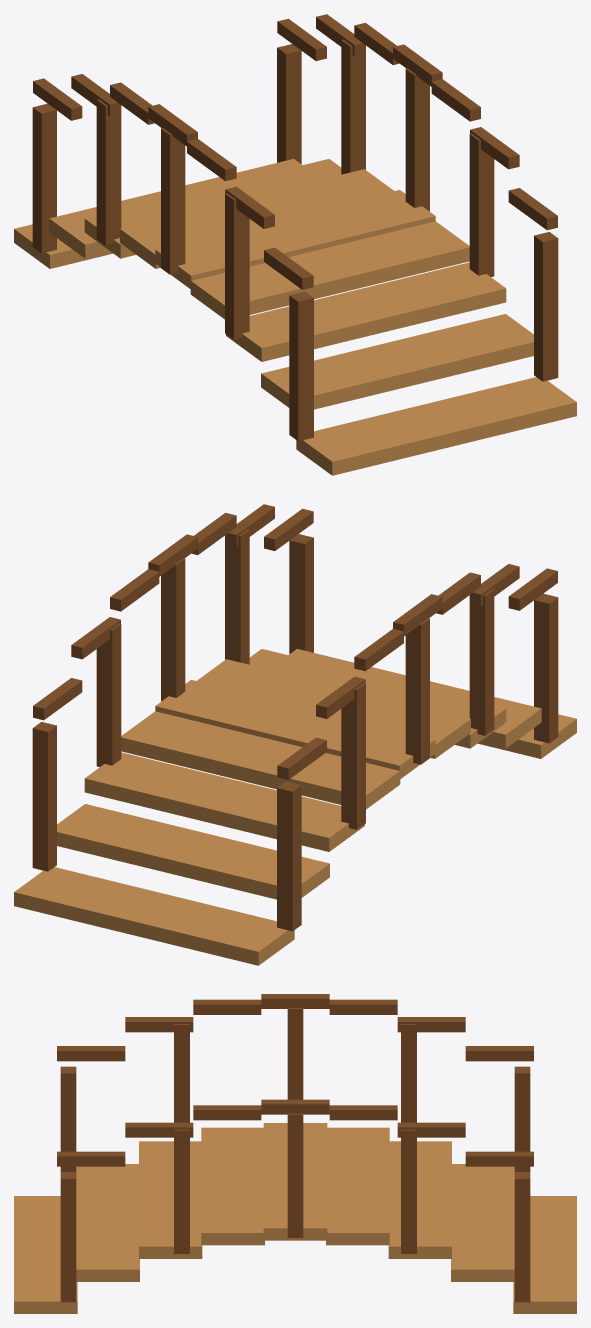
Rendered from small_bridge.glb.
The picture shows the model from 3 angles, top to bottom: view 1: azimuth 30°, elevation 25°; view 2: azimuth 150°, elevation 25°; view 3: azimuth 270°, elevation 25°; orthographic projection. The views are drawn at different scales.
Visible parts, largest first — view 1: small_bridge; view 2: small_bridge; view 3: small_bridge.
Part boxes in pixels (x1,y1,x2,y2): small_bridge: [14, 14, 576, 475]; small_bridge: [14, 504, 576, 965]; small_bridge: [14, 994, 576, 1313].
Bounding box in the file's own units: 1.17 × 1.03 × 2.48.
